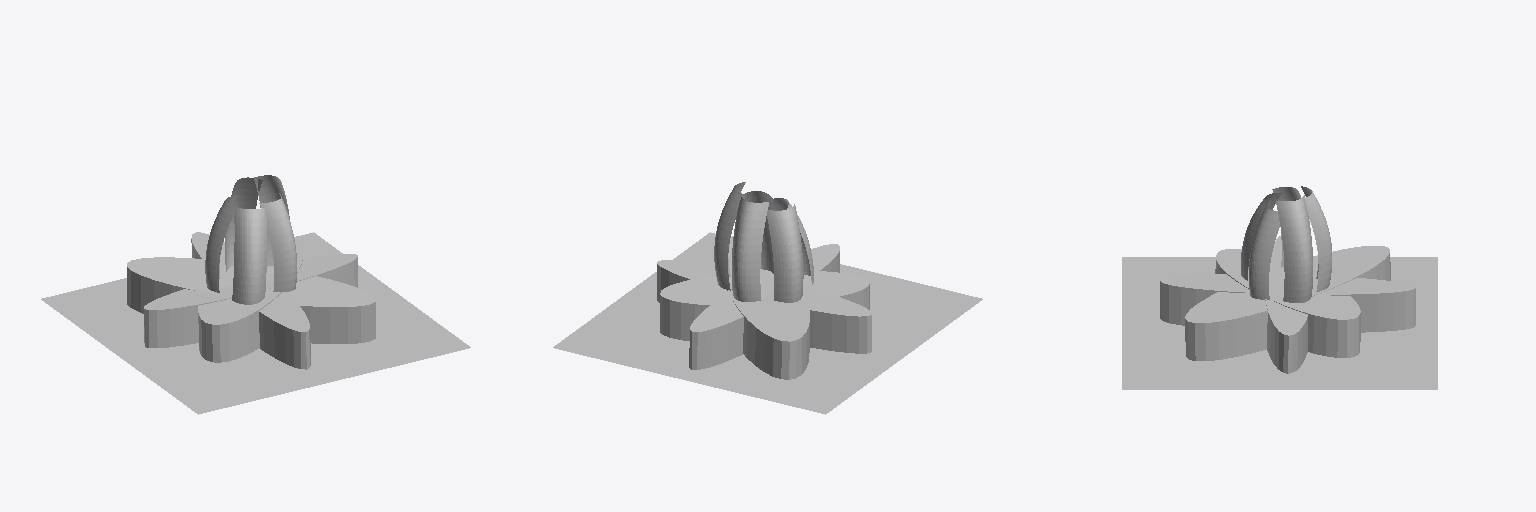
Rendered from fogata.obj.
3 views of the same model, side by side, from view 1: azimuth 30°, elevation 25°; view 2: azimuth 150°, elevation 25°; view 3: azimuth 270°, elevation 25° (orthographic).
Parts seen in each view (by area): view 1: Cylinder.003, SurfPatch; view 2: Cylinder.003, SurfPatch; view 3: Cylinder.003, SurfPatch.
Part boxes in pixels (x1,y1,x2,y2): Cylinder.003: (41, 232, 470, 414); SurfPatch: (205, 175, 296, 304); Cylinder.003: (553, 232, 982, 414); SurfPatch: (714, 182, 813, 302); Cylinder.003: (1122, 236, 1437, 389); SurfPatch: (1241, 186, 1331, 302).
Bounding box in the file's own units: 2 × 0.9506 × 2.